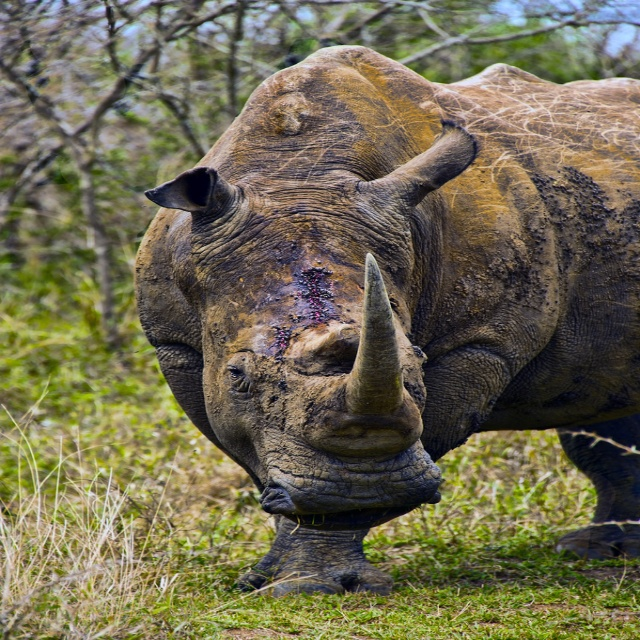Rhinoceros: (125, 41, 639, 600)
